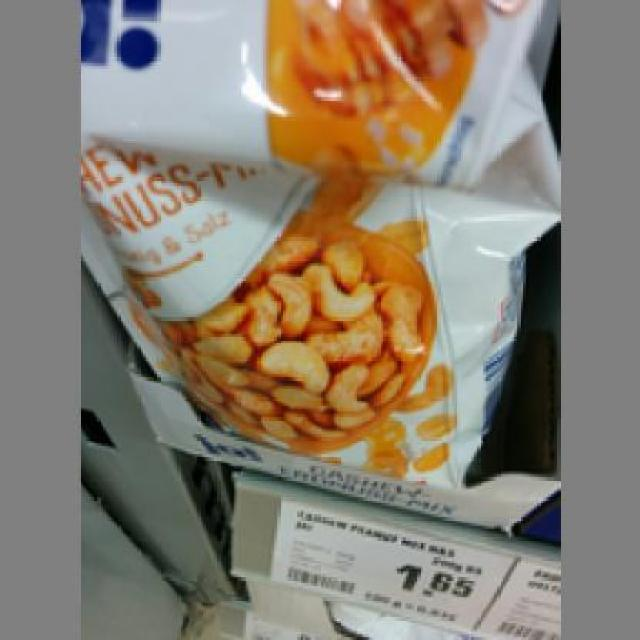Nuts: (77, 134, 526, 494)
